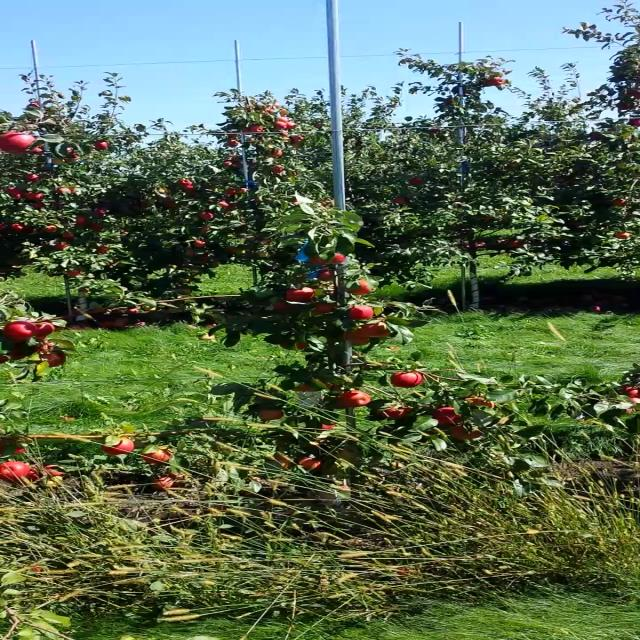apple: (1, 132, 35, 154), (3, 321, 38, 342), (297, 377, 336, 393), (433, 405, 461, 427), (390, 371, 425, 388), (1, 460, 30, 480), (282, 286, 314, 304), (104, 436, 132, 456), (338, 391, 372, 407), (343, 328, 372, 346), (143, 448, 172, 465), (361, 321, 390, 337), (450, 425, 482, 439), (348, 305, 374, 321), (380, 404, 409, 418), (351, 279, 375, 295), (466, 397, 497, 409), (300, 457, 322, 472), (45, 352, 65, 368), (273, 300, 299, 312), (257, 409, 283, 421), (34, 322, 54, 337), (312, 302, 337, 314), (326, 253, 348, 265), (621, 386, 639, 398), (317, 269, 333, 281), (310, 256, 326, 266), (275, 456, 288, 468), (319, 422, 335, 431), (298, 342, 310, 349), (625, 407, 633, 415), (629, 398, 639, 404)
